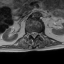CCS_normal: (33, 30, 35, 40)
LFS_normal: (38, 31, 39, 36)
LLS_normal: (35, 30, 37, 38)
RFS_normal: (29, 31, 30, 36)
RLS_normal: (31, 30, 33, 38)
